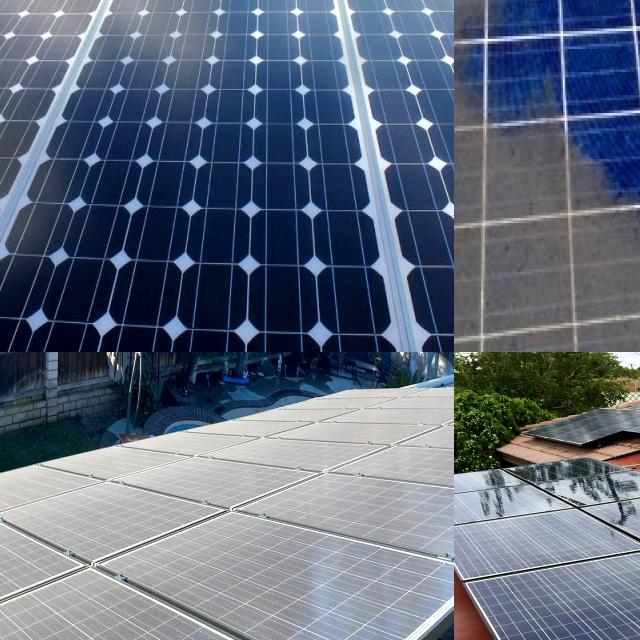crack: (0, 0, 454, 352), (323, 0, 454, 352), (0, 0, 128, 351), (123, 0, 357, 91), (0, 0, 203, 82), (454, 555, 640, 640), (304, 0, 454, 102)
dust: (508, 70, 618, 280), (454, 0, 541, 229), (206, 530, 376, 640), (454, 250, 549, 352), (7, 469, 118, 556), (355, 405, 454, 483), (278, 411, 350, 516), (162, 442, 268, 498), (454, 0, 546, 60), (543, 0, 640, 53), (368, 493, 454, 552), (454, 0, 560, 47), (0, 507, 42, 609), (56, 583, 120, 619)
